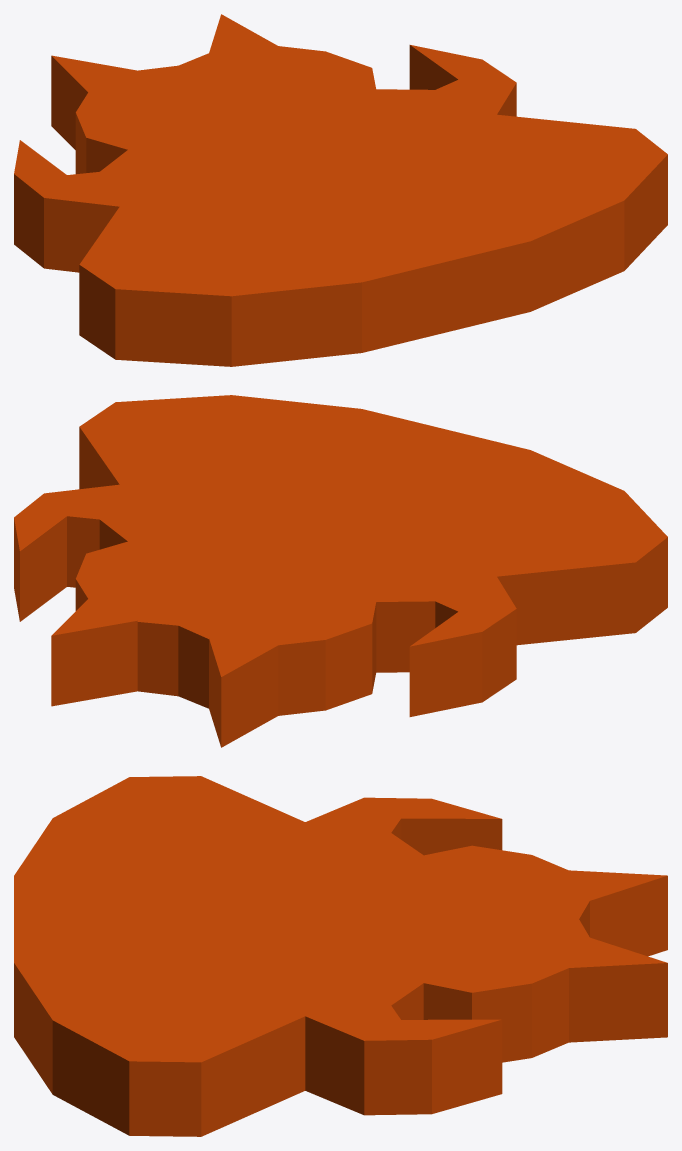
Rendered from fireball.dae.
3 renders of one model, top to bottom at view 1: azimuth 30°, elevation 25°; view 2: azimuth 150°, elevation 25°; view 3: azimuth 270°, elevation 25°, orthographic. The views are drawn at different scales.
Visible parts, largest first — view 1: Cube; view 2: Cube; view 3: Cube.
Part boxes in pixels (x1,y1,x2,y2): Cube: (14,14,667,366); Cube: (14,395,667,747); Cube: (14,776,667,1136).
Bounding box in the file's own units: 3.96 × 3.82 × 0.48.
